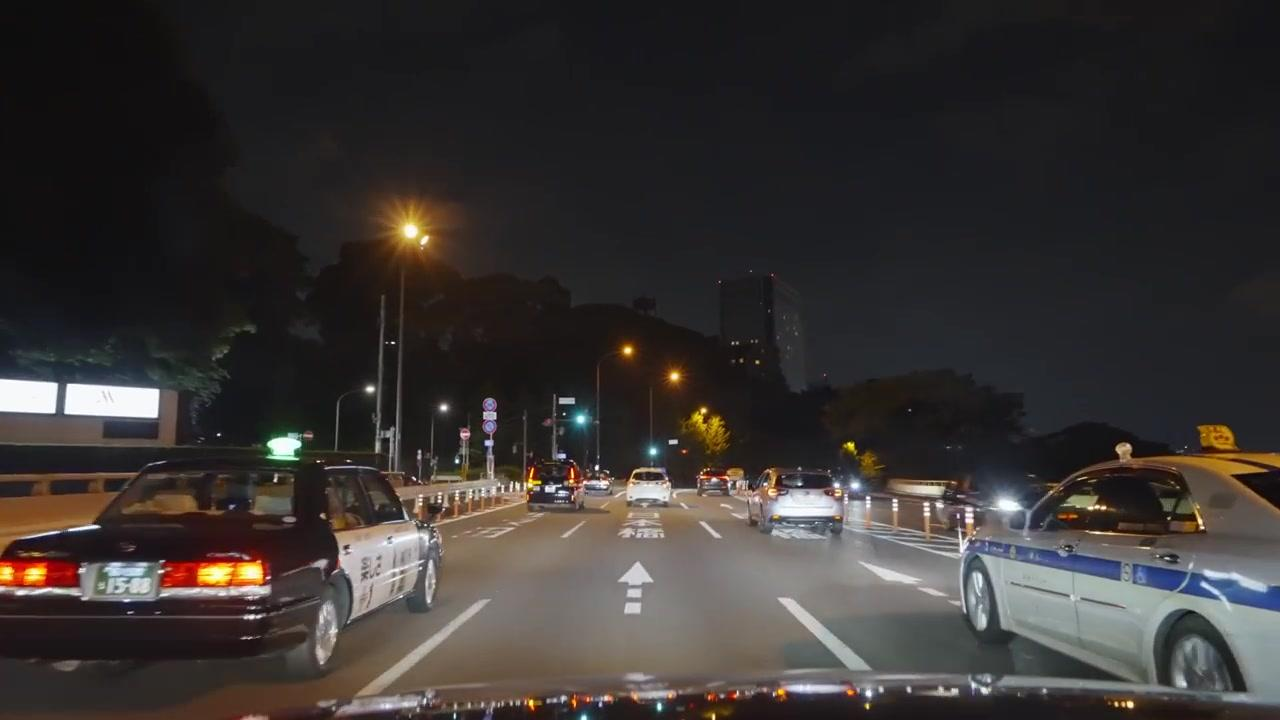bus: (527, 455, 584, 511)
car: (1, 456, 446, 677), (957, 434, 1278, 699), (746, 466, 845, 538), (526, 455, 584, 511), (626, 467, 674, 508), (576, 480, 613, 510), (699, 474, 730, 496), (726, 474, 749, 495)
person: (321, 484, 364, 529)
traffic light: (574, 407, 589, 430)
